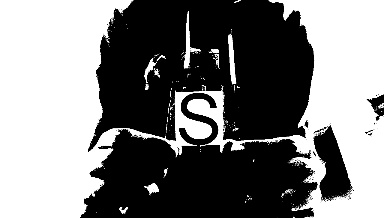S: (175, 90, 222, 144)
